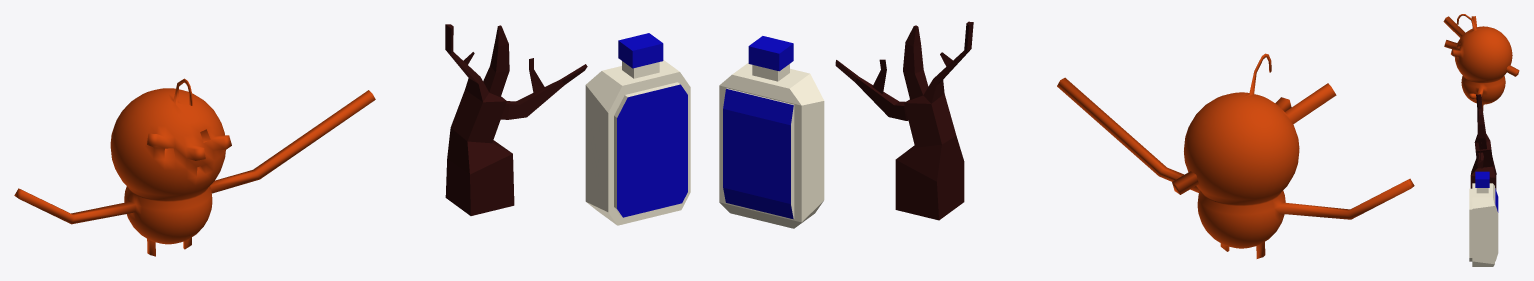
The model's file is kenava.obj.
3 renders of one model, left to right at view 1: azimuth 30°, elevation 25°; view 2: azimuth 150°, elevation 25°; view 3: azimuth 270°, elevation 25°, orthographic. The views are drawn at different scales.
Visible parts, largest first — view 1: Sphere, Cube, Cube.001_Cube.002; view 2: Sphere, Cube, Cube.001_Cube.002; view 3: Sphere, Cube, Cube.001_Cube.002.
Part boxes in pixels (x1,y1,x2,y2): Sphere: [14, 78, 375, 256]; Cube: [585, 33, 690, 225]; Cube.001_Cube.002: [445, 24, 587, 215]; Sphere: [1057, 53, 1414, 258]; Cube: [719, 36, 824, 228]; Cube.001_Cube.002: [835, 21, 973, 220]; Sphere: [1443, 14, 1519, 110]; Cube: [1469, 171, 1498, 266]; Cube.001_Cube.002: [1470, 94, 1496, 189].
Bounding box in the file's own units: 20.84 × 7.69 × 4.08.
